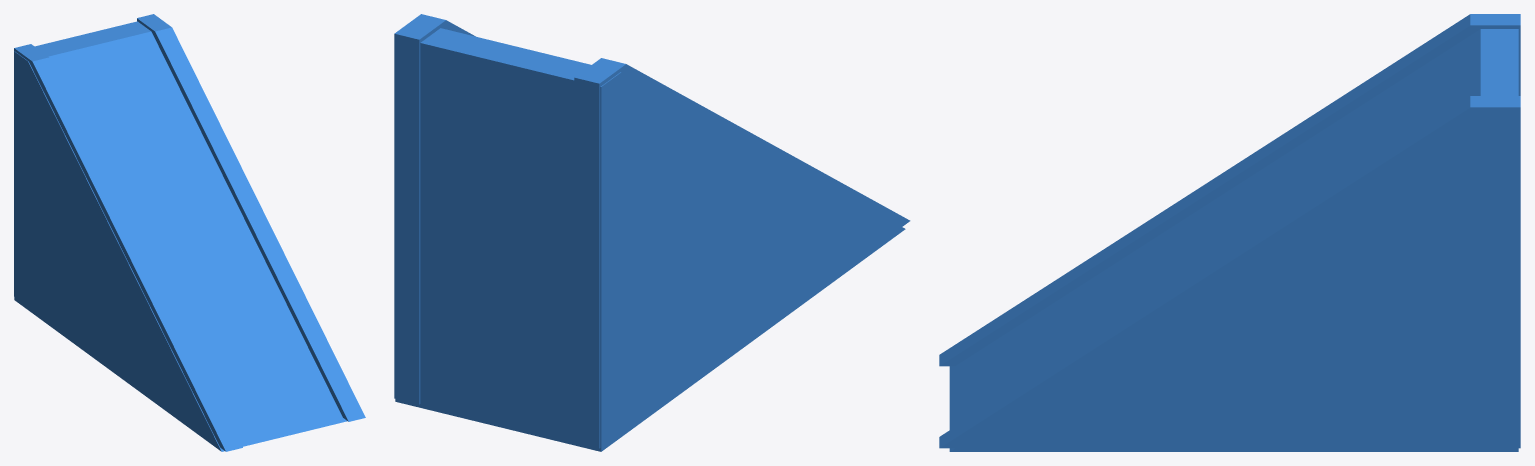
The model's file is Collision_Stair_Interior_Solid.fbx.
3 views of the same model, side by side, from view 1: azimuth 30°, elevation 25°; view 2: azimuth 150°, elevation 25°; view 3: azimuth 270°, elevation 25° (orthographic). The views are drawn at different scales.
Parts seen in each view (by area): view 1: UCX_Stair_Interior_Solid_1; view 2: UCX_Stair_Interior_Solid_1; view 3: UCX_Stair_Interior_Solid_1.
Boxes of the visible parts, x1,y1,x2,y2 form: UCX_Stair_Interior_Solid_1: [14, 14, 365, 451]; UCX_Stair_Interior_Solid_1: [394, 14, 910, 451]; UCX_Stair_Interior_Solid_1: [939, 14, 1520, 451].
Bounding box in the file's own units: 178 × 306 × 467.
